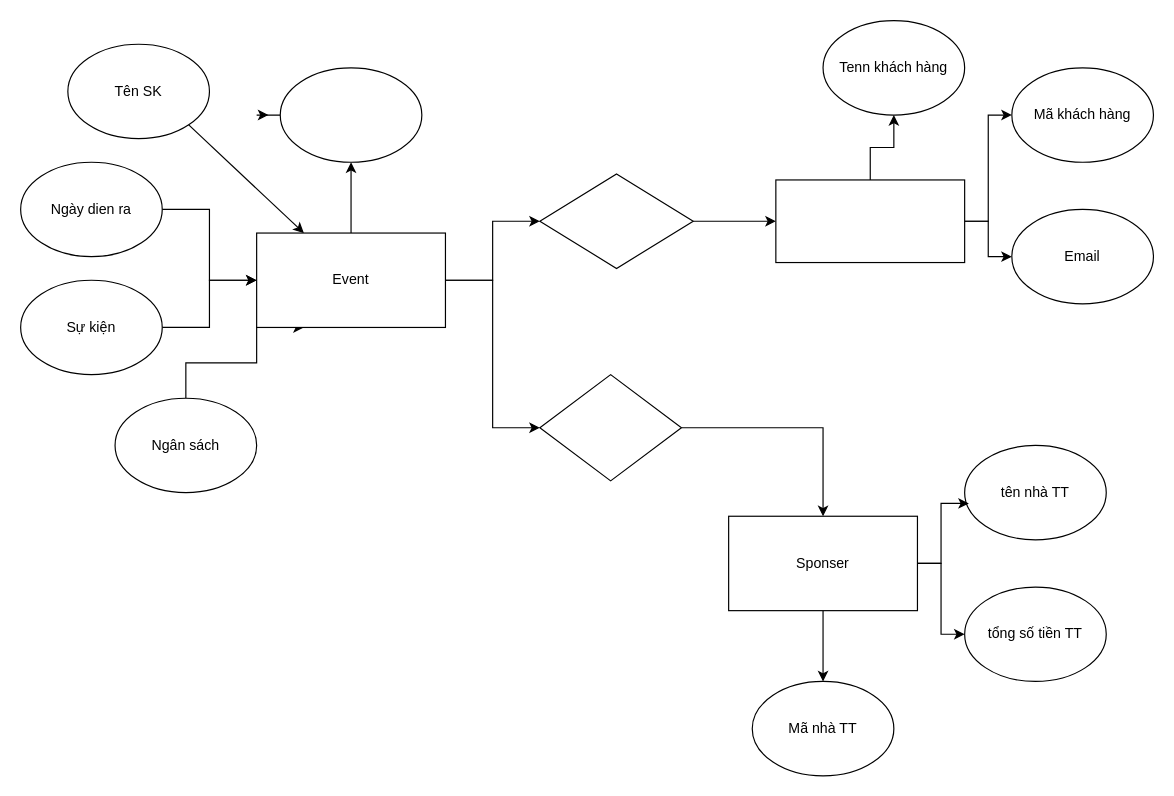
Some shapes in this 1174 by 796 pixel diagram are drawn without their labels. Each missing label, with the centre of its shape:
"Attendee" belongs at point (870, 221).
"Mã SK" belongs at point (350, 114).
"Tham dữ" belongs at point (616, 220).
"Tài trợ" belongs at point (610, 427).
